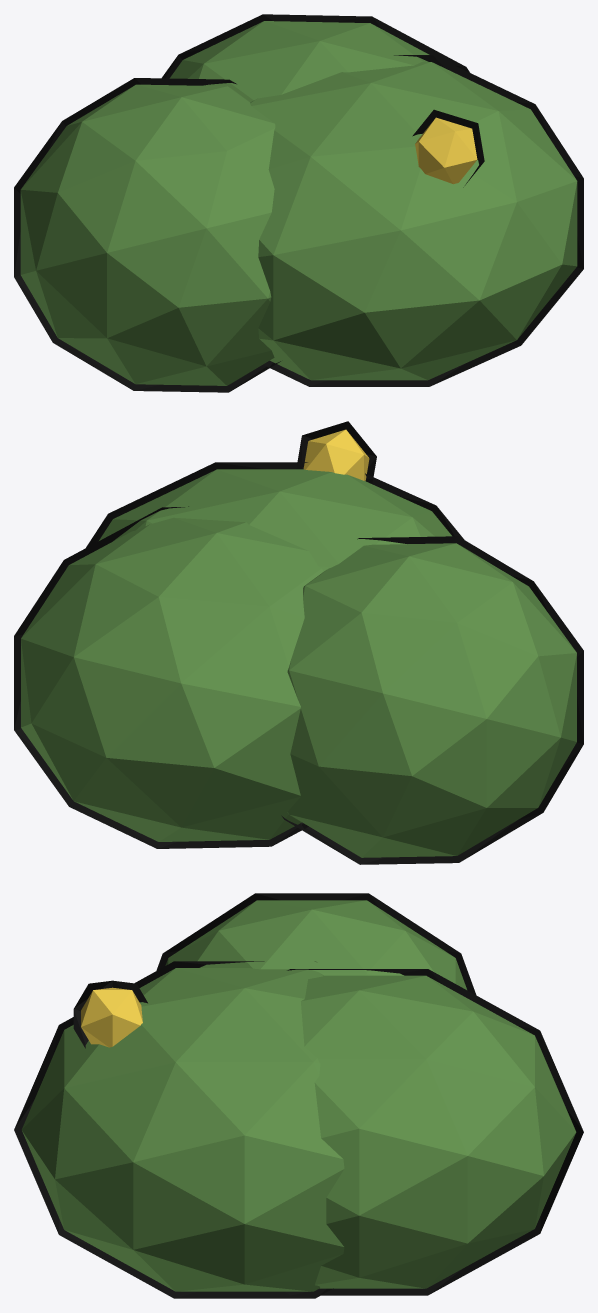
Rendered from Cali_1.fbx.
The picture shows the model from 3 angles, top to bottom: view 1: azimuth 30°, elevation 25°; view 2: azimuth 150°, elevation 25°; view 3: azimuth 270°, elevation 25°; orthographic projection. The views are drawn at different scales.
Parts seen in each view (by area): view 1: Cali_1; view 2: Cali_1; view 3: Cali_1.
Boxes of the visible parts, x1,y1,x2,y2 form: Cali_1: [14, 14, 583, 392]; Cali_1: [14, 421, 583, 864]; Cali_1: [14, 893, 583, 1298].
Size of the model in its own units: 1.6 by 0.8875 by 1.53.
